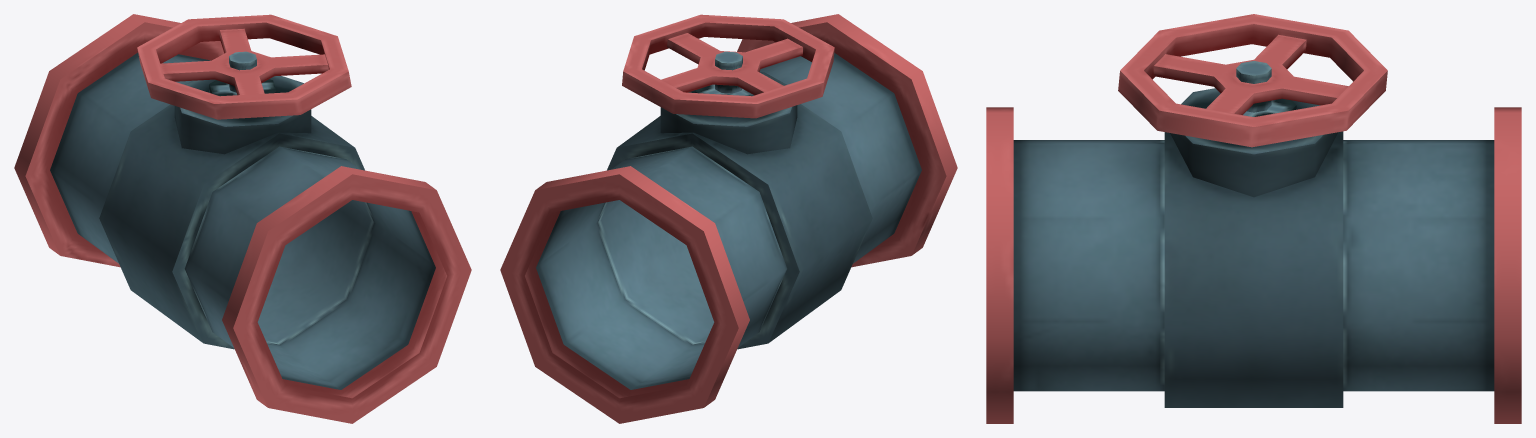
Rendered from Pipe_wheel.fbx.
3 renders of one model, left to right at view 1: azimuth 30°, elevation 25°; view 2: azimuth 150°, elevation 25°; view 3: azimuth 270°, elevation 25°, orthographic. The views are drawn at different scales.
Visible parts, largest first — view 1: Pipe_wheel; view 2: Pipe_wheel; view 3: Pipe_wheel.
Part boxes in pixels (left/top/right/bottom): Pipe_wheel: left=14, top=14, right=471, bottom=423; Pipe_wheel: left=500, top=14, right=957, bottom=423; Pipe_wheel: left=986, top=14, right=1521, bottom=423.
Bounding box in the file's own units: 126 × 144 × 200.
